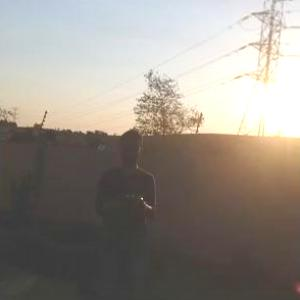follow: (89, 124, 161, 299)
